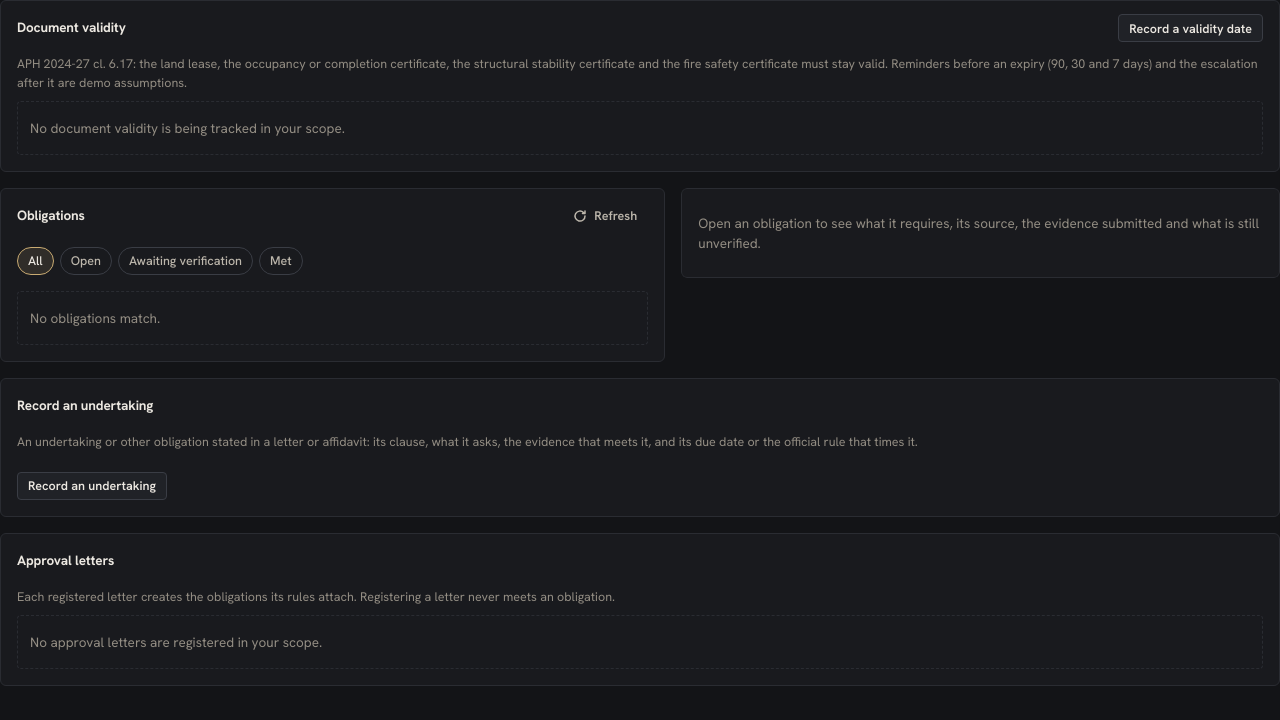
Test: document validity panel › lets an officer record a validity date from a tracked document, by issue date for a structural certificate
Click the button "Record a validity date".
click(1191, 28)  # box [1118,14,1263,42]
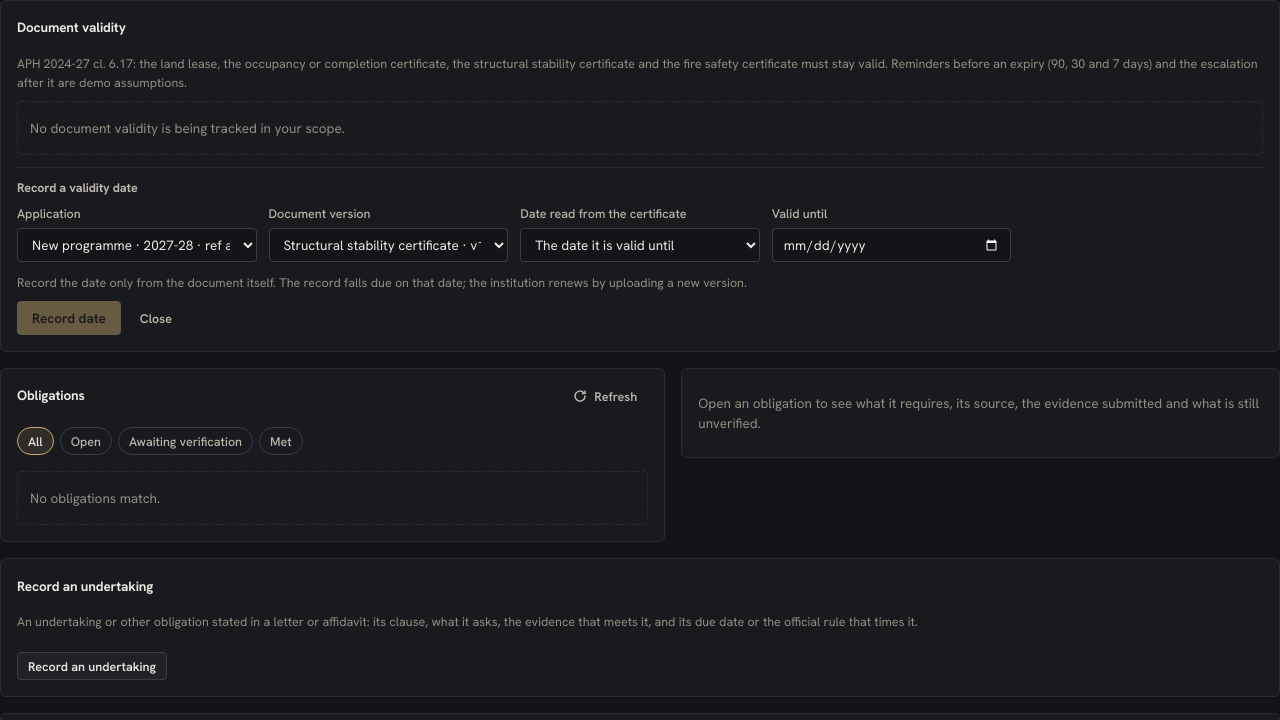
Select "Its issue date (valid five years, APH cl. 6.17(h))" in the dropdown labelled "Date read from the certificate" at point(640, 245), box [520,228,760,262]
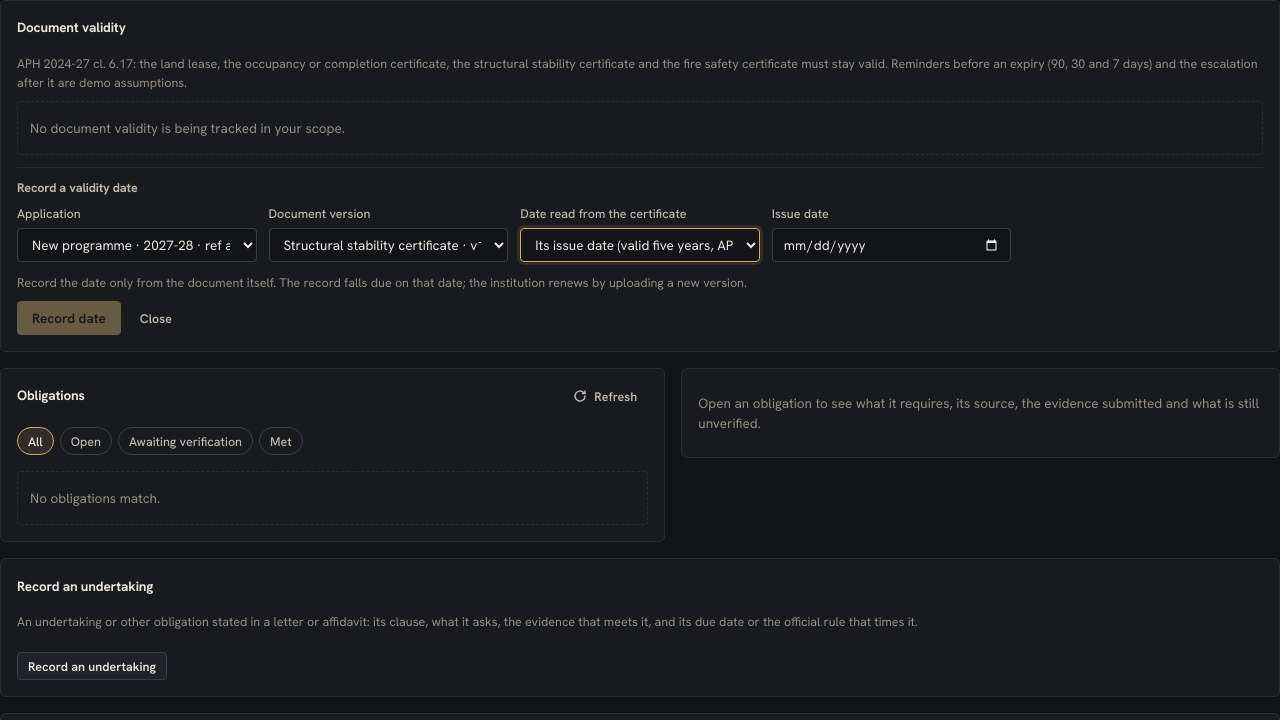
Type "2024-04-01" into the date field labelled "Issue date".
click(892, 245); type("2024-04-01")  # box [772,228,1011,262]
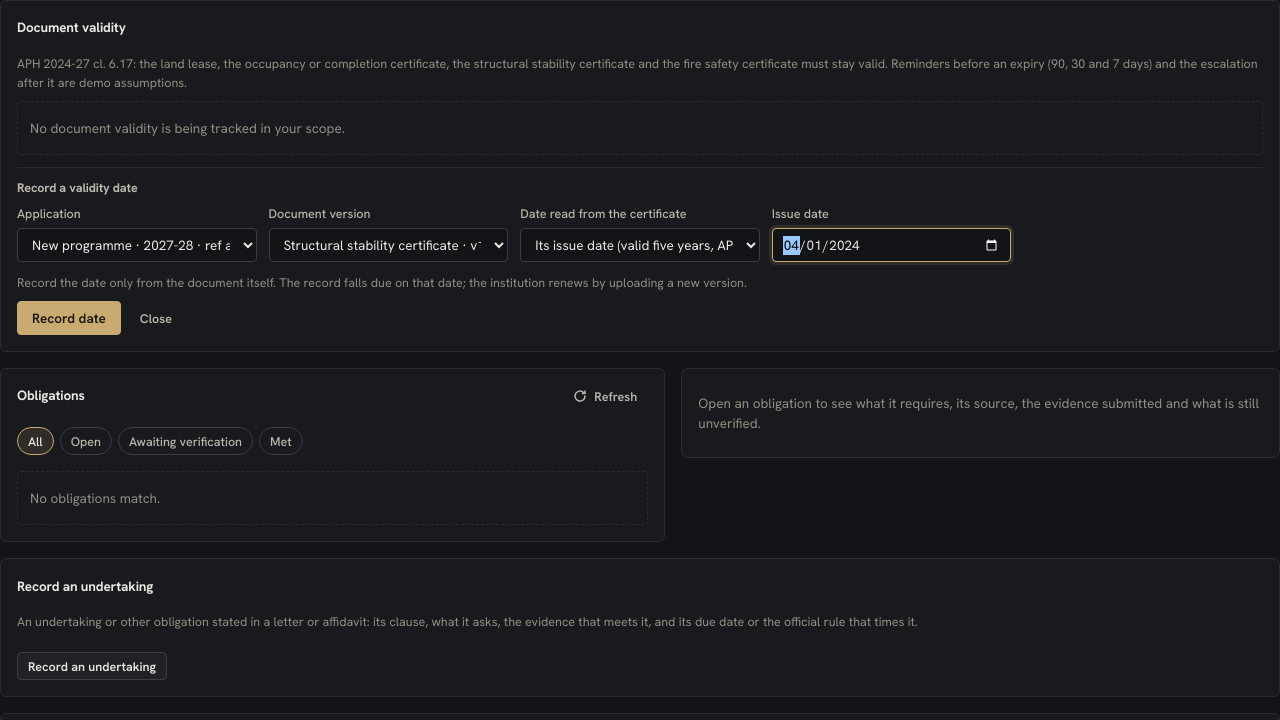
Click the button "Record date".
click(69, 318)  # box [17,301,121,335]
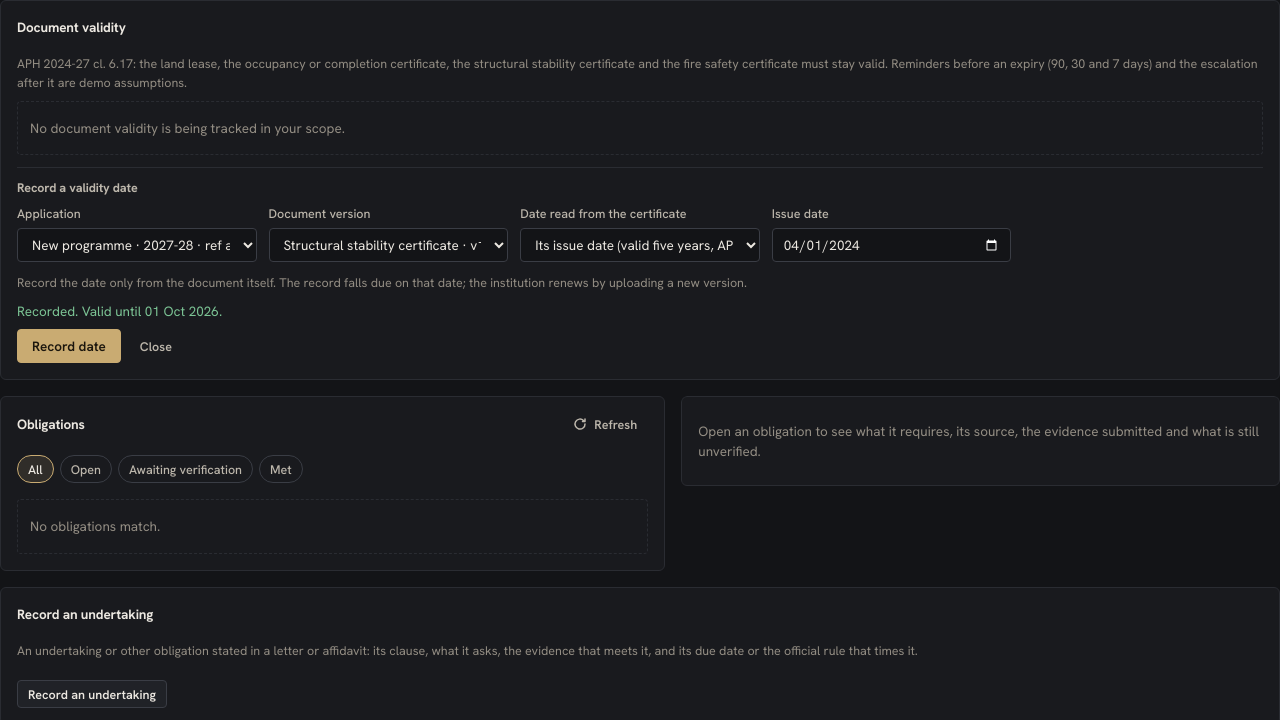
Result: the text "Recorded. Valid until 01 Oct 2026." is shown at [17,302,222,320]
